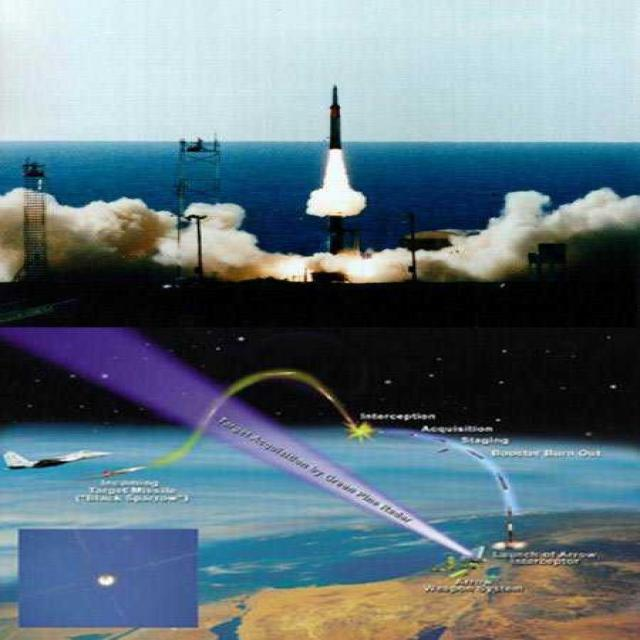missile: (317, 78, 350, 153)
